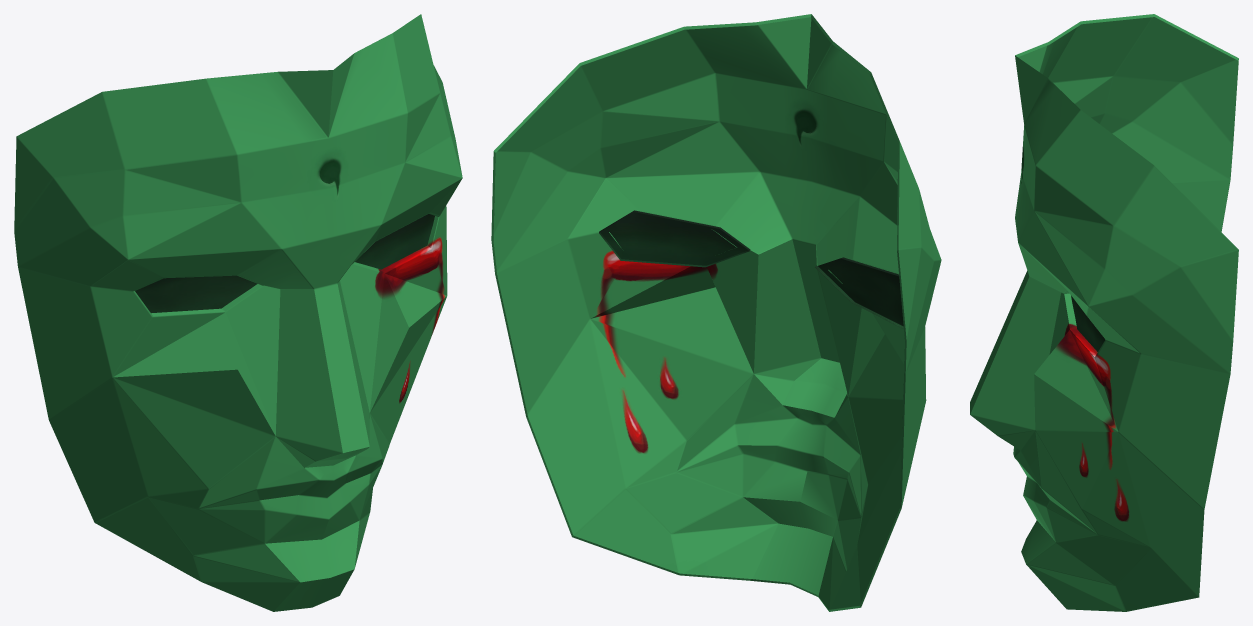
File: mask.fbx
3 views of the same model, side by side, from view 1: azimuth 30°, elevation 25°; view 2: azimuth 150°, elevation 25°; view 3: azimuth 270°, elevation 25° (orthographic). The views are drawn at different scales.
Parts seen in each view (by area): view 1: FACE, EYES; view 2: FACE, EYES; view 3: FACE, EYES.
Part boxes in pixels (x1=…): FACE: x1=14, y1=14, x2=462, y2=611; EYES: x1=135, y1=214, x2=434, y2=313; FACE: x1=491, y1=14, x2=941, y2=611; EYES: x1=599, y1=210, x2=903, y2=328; FACE: x1=970, y1=14, x2=1238, y2=611; EYES: x1=1071, y1=295, x2=1105, y2=351.
Bounding box in the file's own units: 67.78 × 86.63 × 39.21.
